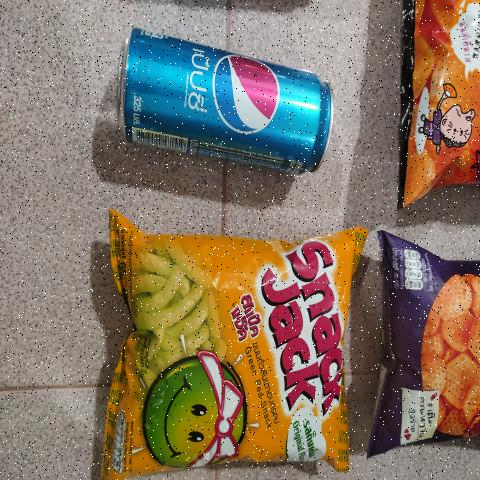pepsi_blue: (100, 34, 342, 184)
snack_jack: (114, 220, 345, 471)
